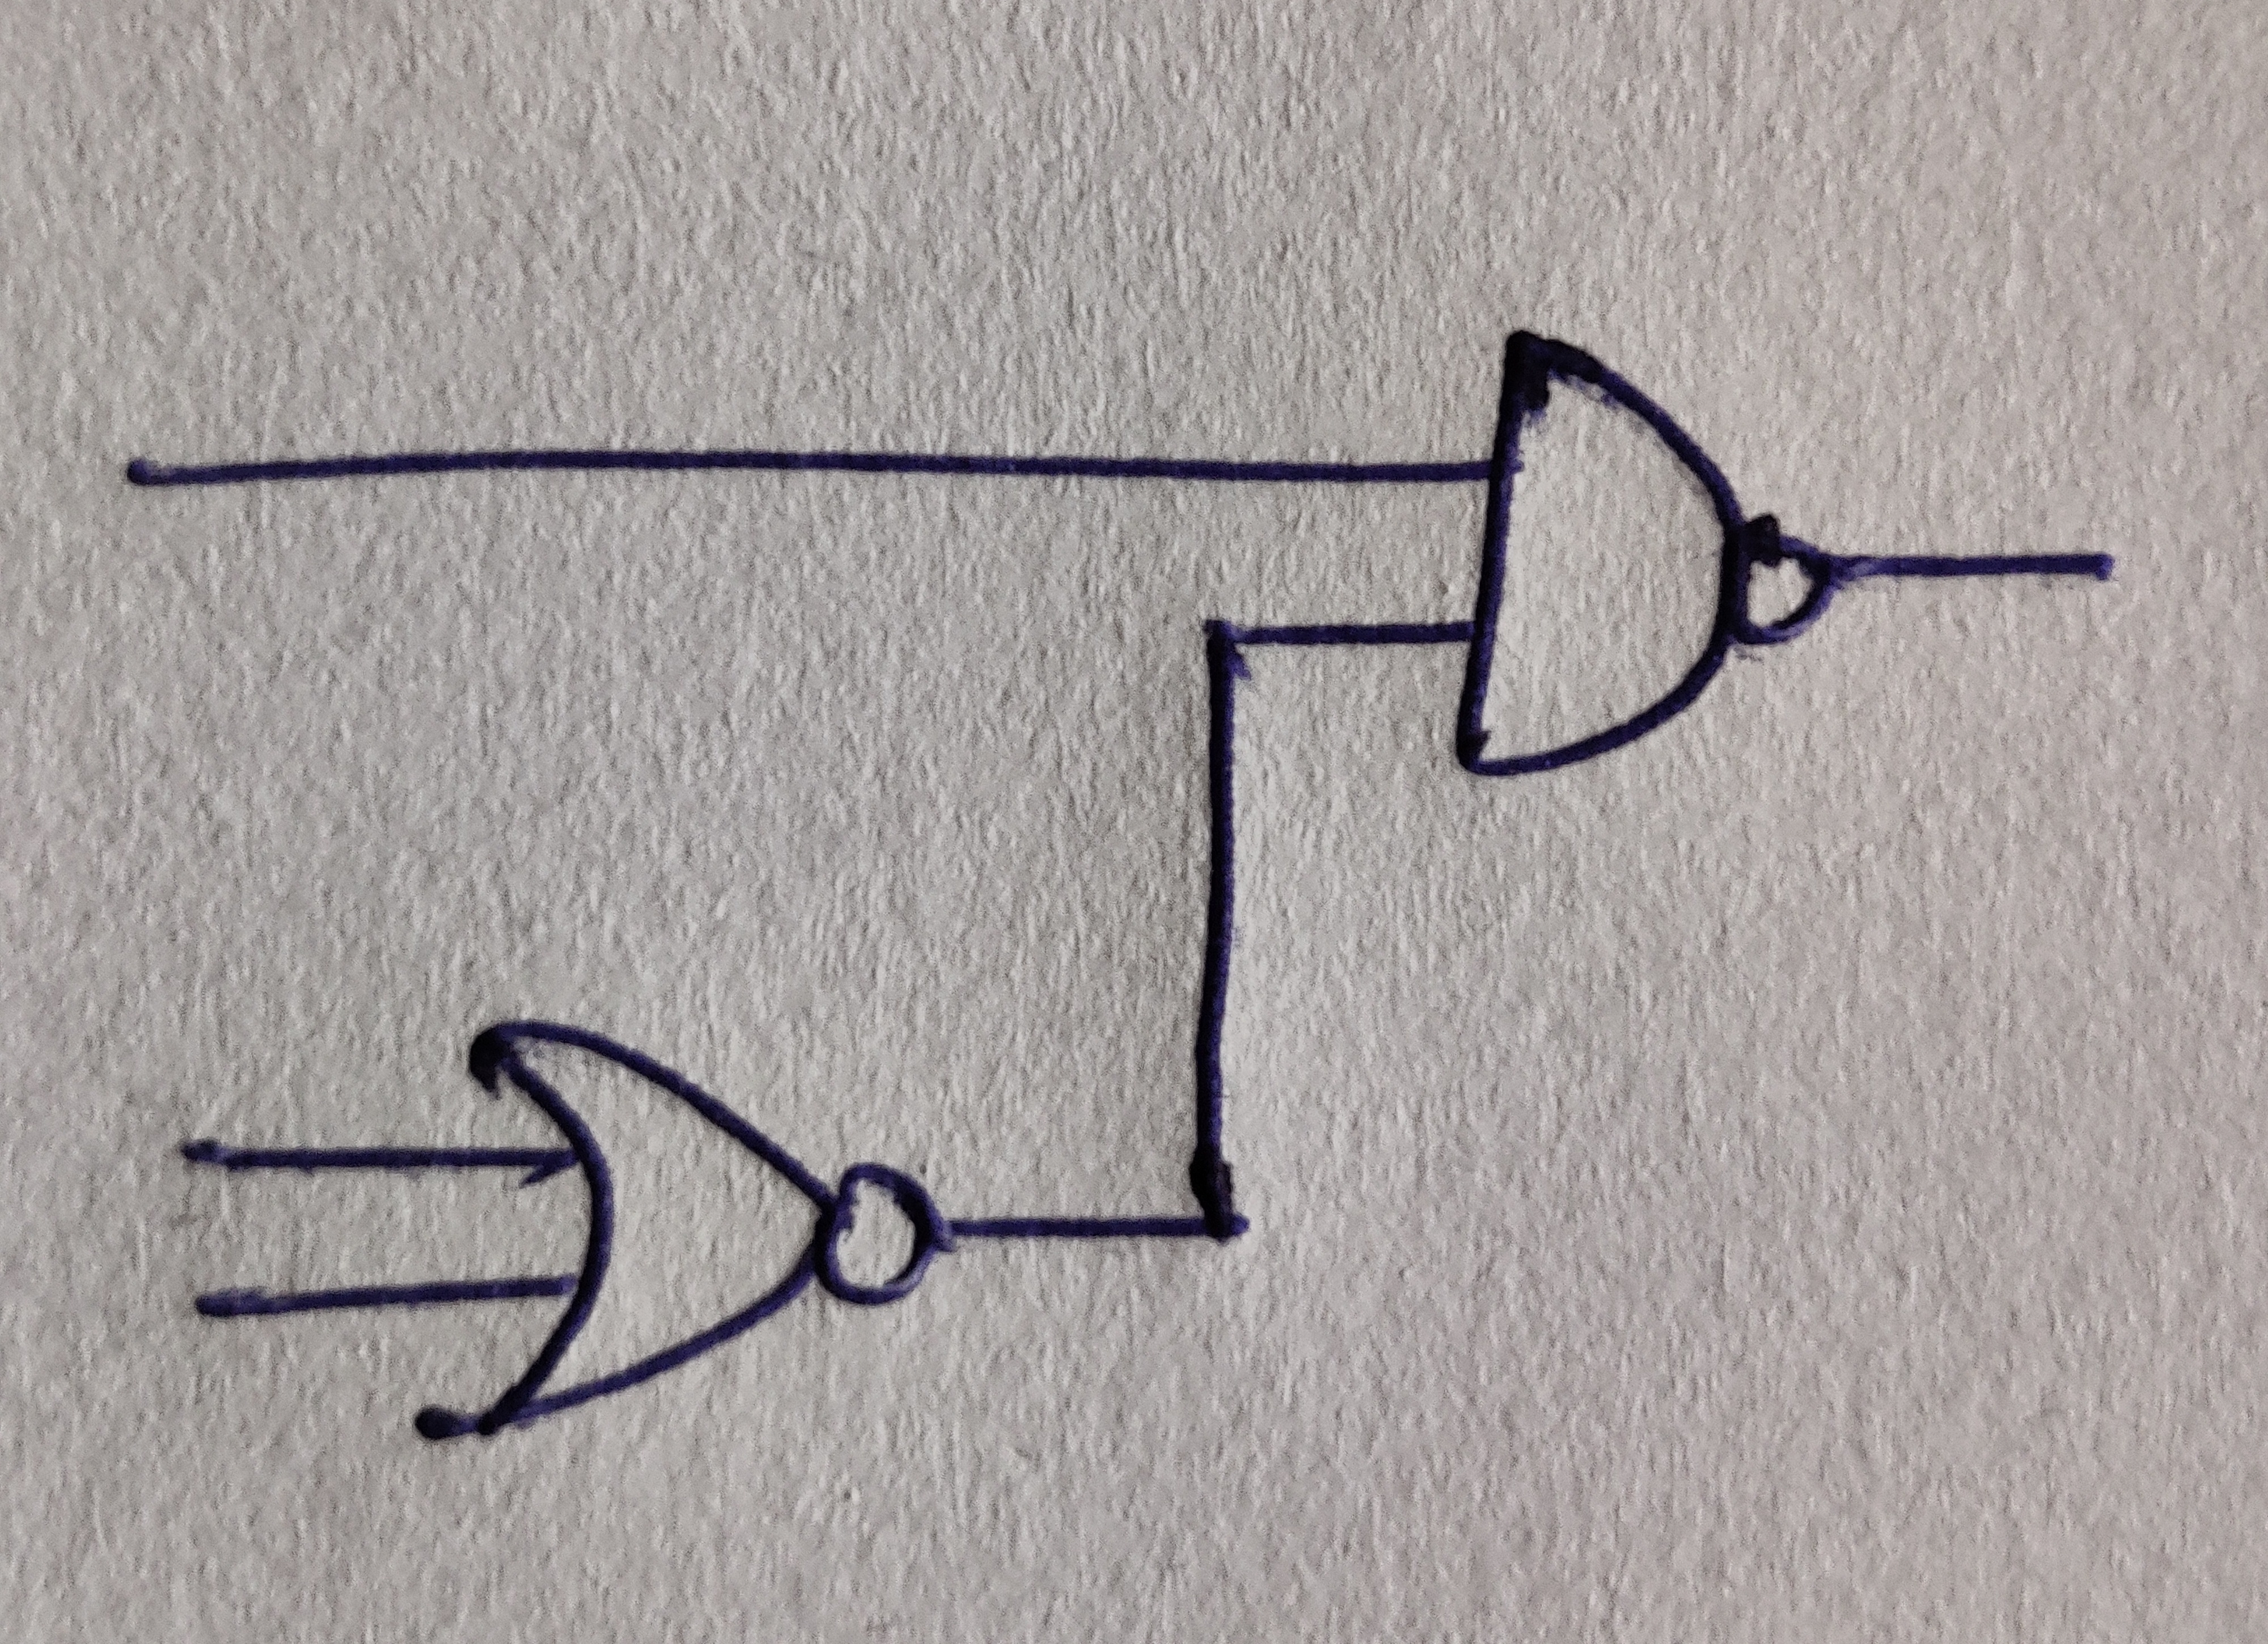and: (1456, 335, 1738, 775)
not: (817, 1163, 942, 1304), (1727, 516, 1833, 648)
or: (409, 1024, 831, 1440)
